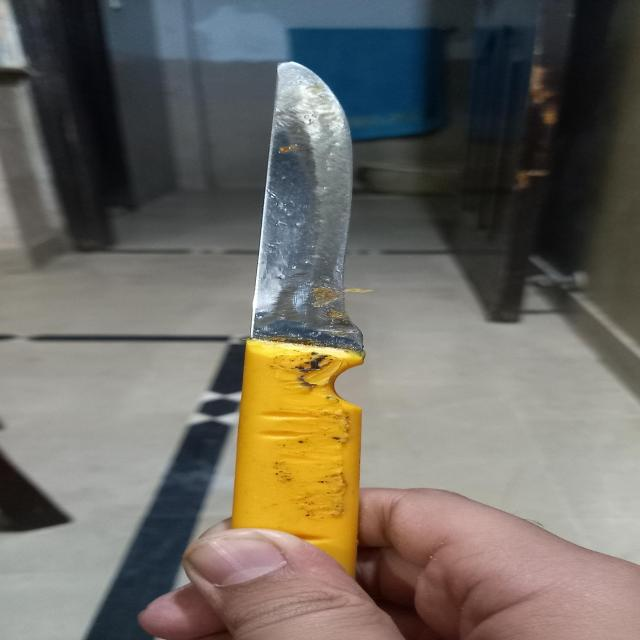Knife: (237, 61, 356, 575)
Person: (146, 487, 640, 640)
